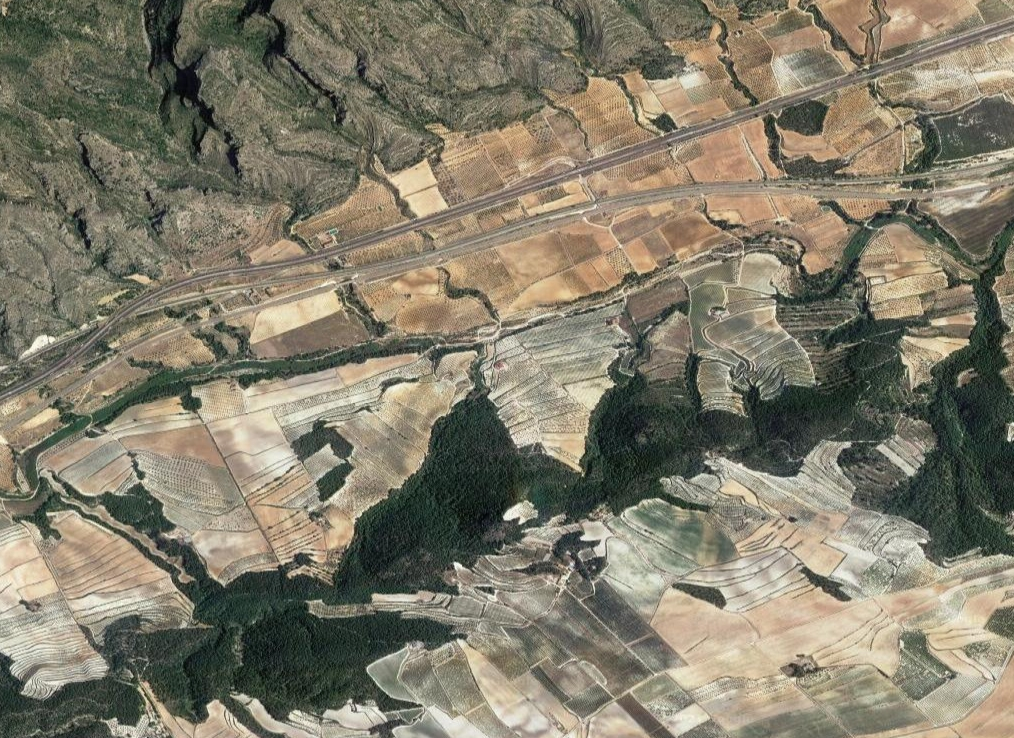motorway: (1, 245, 350, 407), (344, 146, 643, 287), (637, 84, 826, 157), (826, 19, 1013, 89), (641, 171, 887, 214), (887, 154, 1014, 205)
